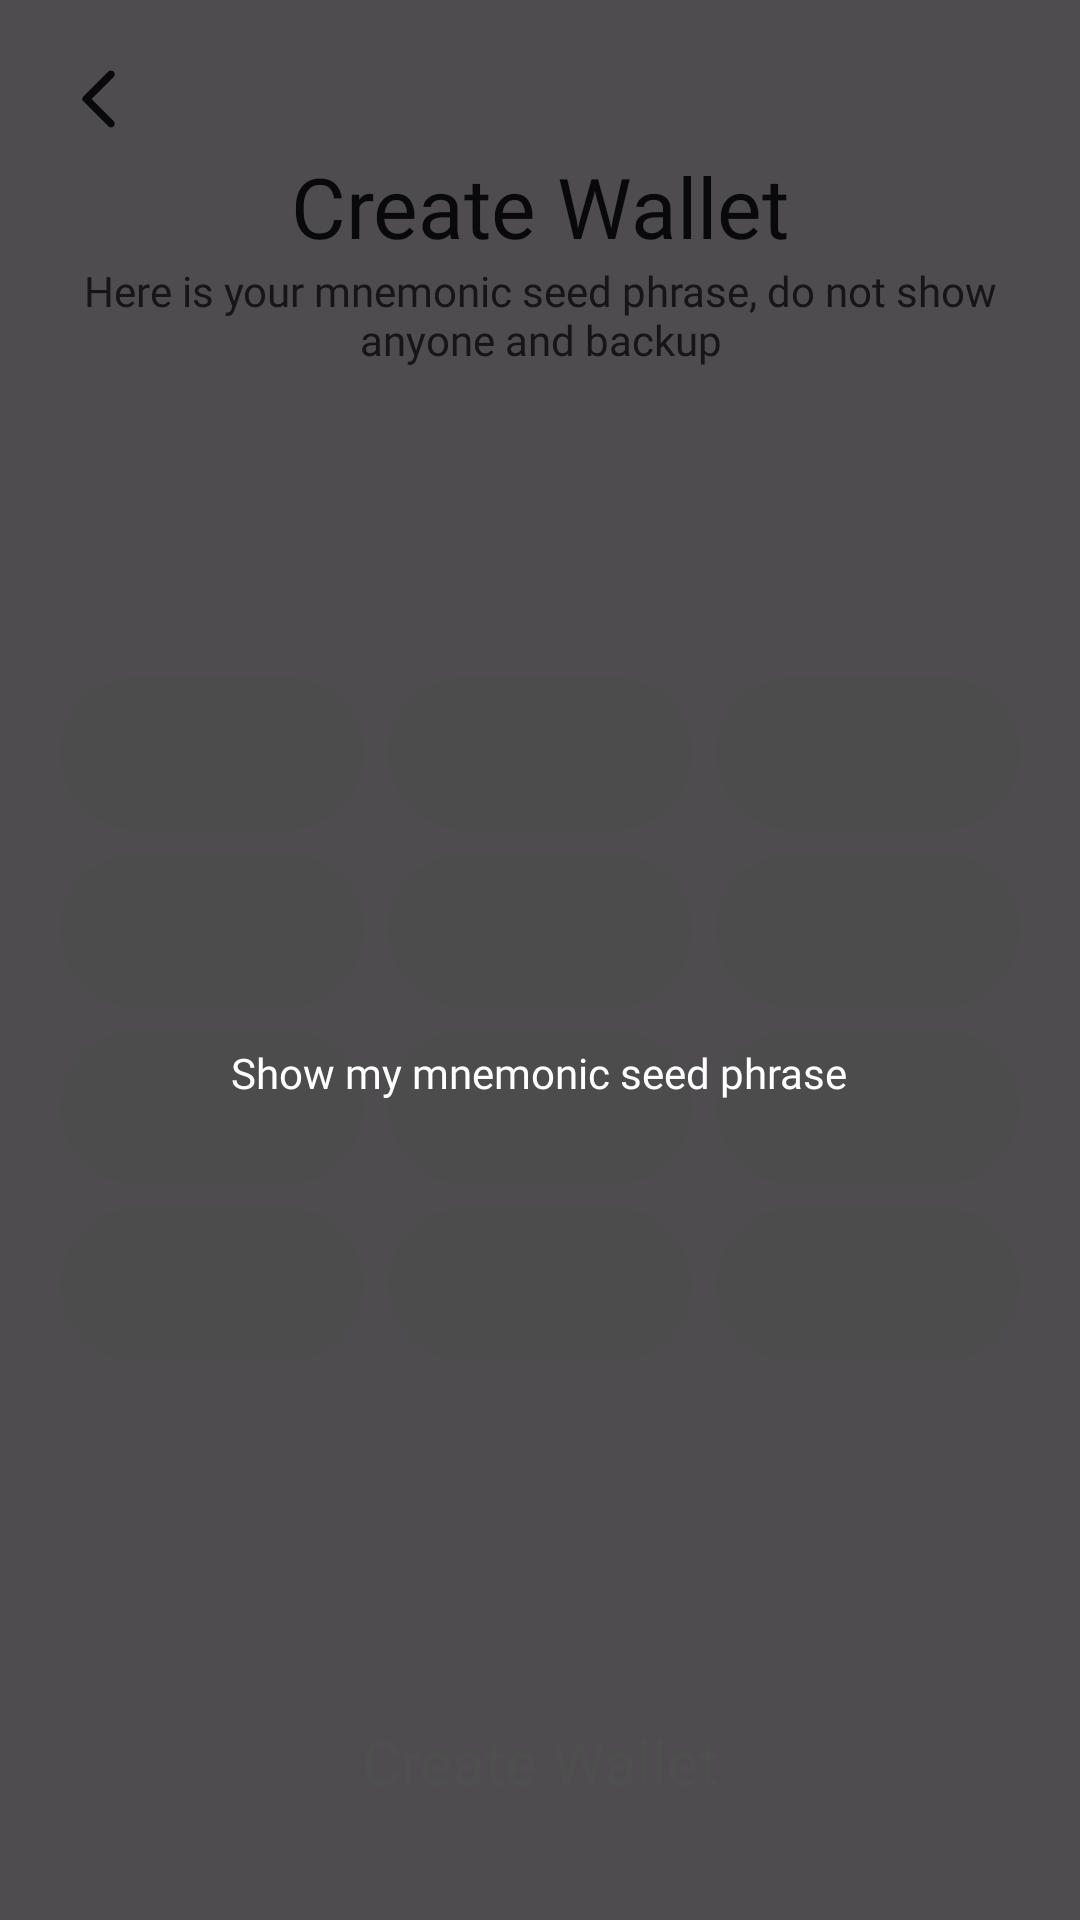

Icon click points for this 1080 × 1920 phone screenshot, format [x,y]:
arrow back: [98,98]
